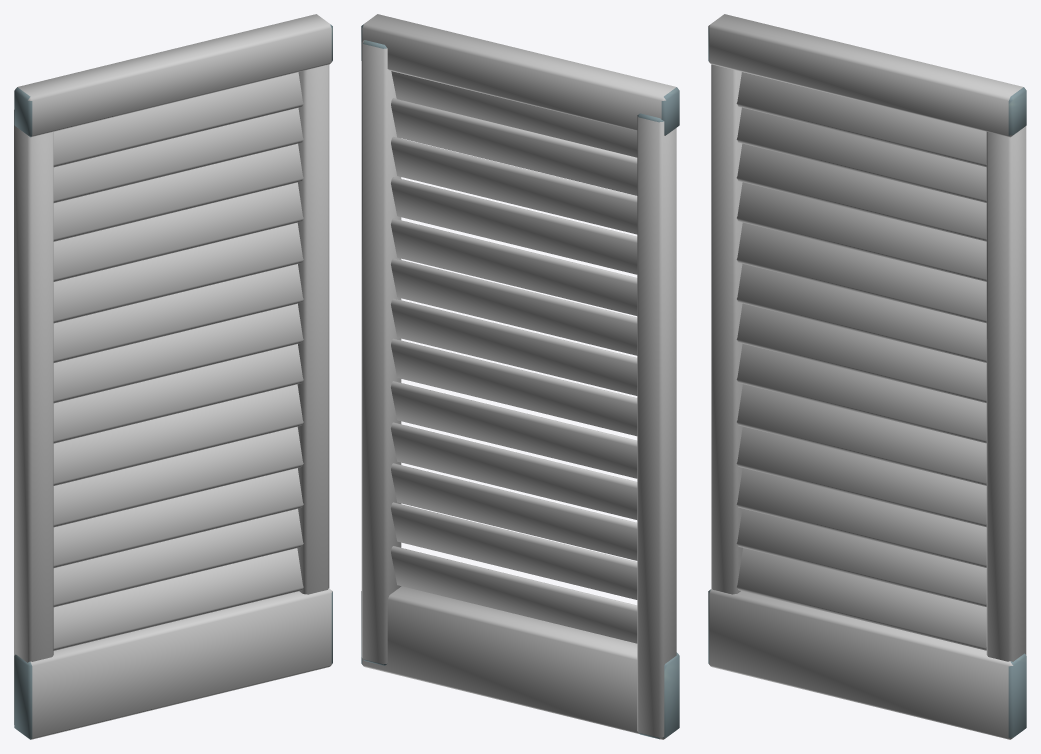
Rendered from Window_Blinds.fbx.
3 renders of one model, left to right at view 1: azimuth 30°, elevation 25°; view 2: azimuth 150°, elevation 25°; view 3: azimuth 330°, elevation 25°, orthographic.
Parts seen in each view (by area): view 1: Window_Blinds; view 2: Window_Blinds; view 3: Window_Blinds.
Part boxes in pixels (bbox=[...]): Window_Blinds: bbox=[14, 14, 332, 739]; Window_Blinds: bbox=[361, 14, 679, 739]; Window_Blinds: bbox=[708, 14, 1026, 739].
Bounding box in the file's own units: 0.5138 × 1.03 × 0.0535.
